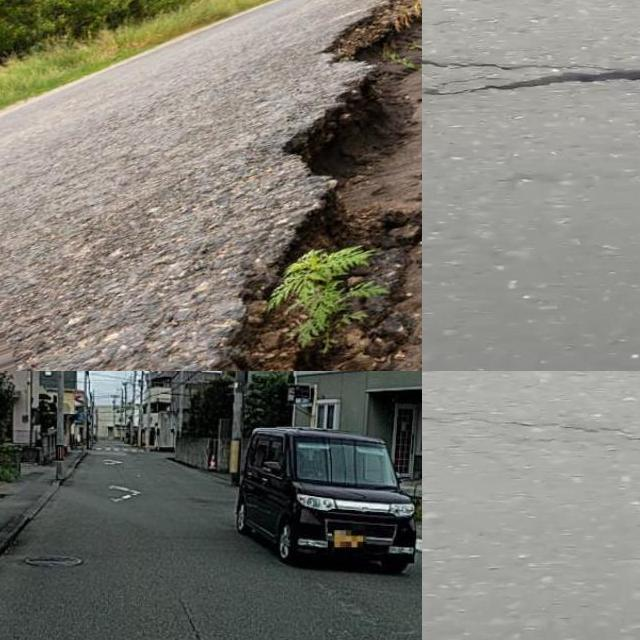Melintang: (422, 49, 640, 104), (422, 406, 479, 432)
Memanjang: (161, 582, 215, 640)
Pinggir: (214, 0, 416, 371)
